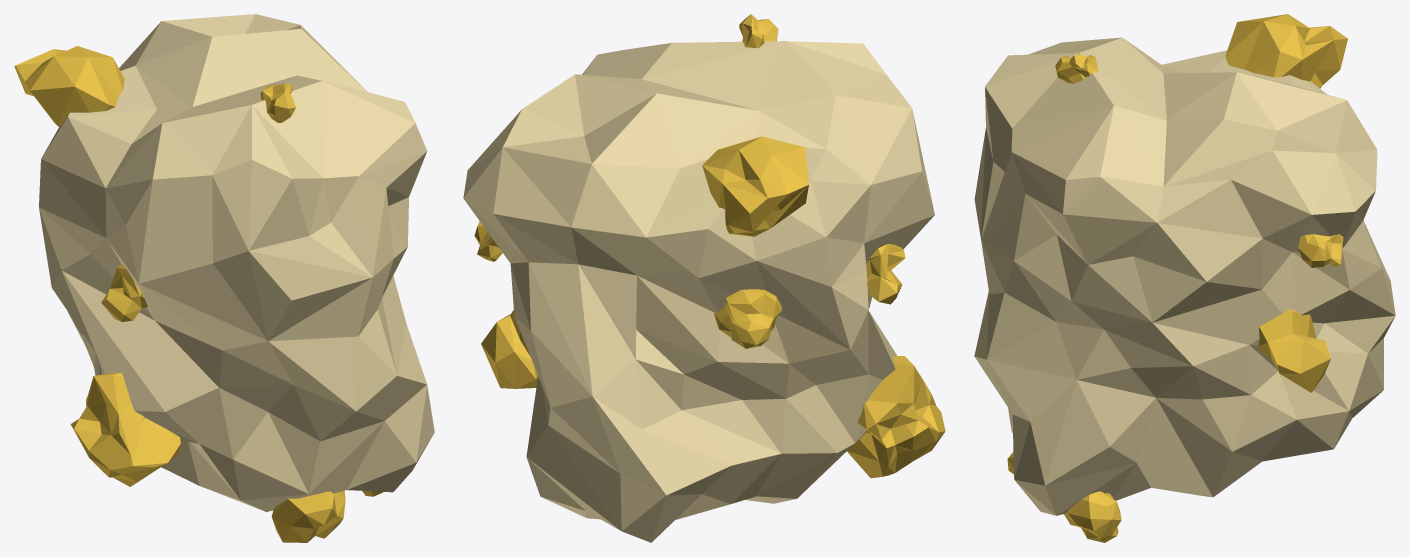
The model's file is MetalOre (31).fbx.
3 views of the same model, side by side, from view 1: azimuth 30°, elevation 25°; view 2: azimuth 150°, elevation 25°; view 3: azimuth 270°, elevation 25° (orthographic). The views are drawn at different scales.
Visible parts, largest first — view 1: Asteroid386; view 2: Asteroid386; view 3: Asteroid386.
Boxes of the visible parts, x1,y1,x2,y2 form: Asteroid386: (14,14,434,542); Asteroid386: (463,14,945,542); Asteroid386: (974,14,1395,542).
Bounding box in the file's own units: 319 × 394 × 340.
